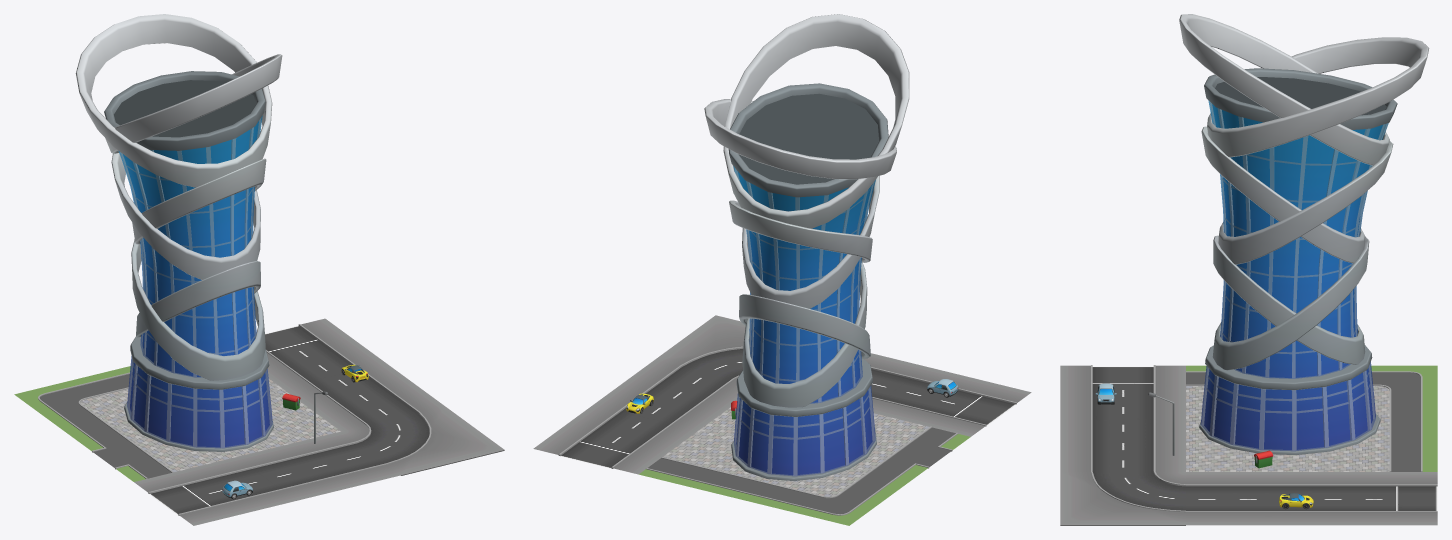
Rendered from north-east.gltf.
3 renders of one model, left to right at view 1: azimuth 30°, elevation 25°; view 2: azimuth 150°, elevation 25°; view 3: azimuth 270°, elevation 25°, orthographic. The views are drawn at different scales.
Parts seen in each view (by area): view 1: Regular_Building_TwistedTower_Large.004, road_013.020, road_009.008, road_009.007, road_022.071, road_022.070, Set_B_Tiles_01.060, Set_B_Tiles_04.054, Set_B_Tiles_09.148; view 2: Regular_Building_TwistedTower_Large.004, road_022.070, road_022.071, road_009.007, Set_B_Tiles_01.060, Set_B_Tiles_05.108, Set_B_Tiles_04.054, road_013.020, road_009.008, Set_B_Tiles_09.148; view 3: Regular_Building_TwistedTower_Large.004, road_022.070, road_013.020, road_009.008, road_022.071, road_009.007, Set_B_Tiles_05.108, Set_B_Tiles_01.060, Set_B_Tiles_09.148, Set_B_Tiles_04.054.
Part boxes in pixels (x1,y1,x2,y2): Regular_Building_TwistedTower_Large.004: (75,14,282,451); road_013.020: (341,406,504,475); road_009.008: (238,431,400,500); road_009.007: (282,362,444,431); road_022.071: (134,457,296,525); road_022.070: (265,318,384,387); Set_B_Tiles_01.060: (14,369,130,437); Set_B_Tiles_04.054: (74,424,237,481); Set_B_Tiles_09.148: (230,387,340,456); Regular_Building_TwistedTower_Large.004: (704,14,909,480); road_022.070: (533,404,698,474); road_022.071: (872,366,1031,436); road_009.007: (594,360,737,429); Set_B_Tiles_01.060: (744,467,909,525); Set_B_Tiles_05.108: (639,430,771,500); Set_B_Tiles_04.054: (853,413,970,481); road_013.020: (655,315,745,379); road_009.008: (864,353,925,405); Set_B_Tiles_09.148: (700,407,735,438); Regular_Building_TwistedTower_Large.004: (1179,14,1429,454); road_022.070: (1312,472,1437,525); road_013.020: (1060,471,1185,525); road_009.008: (1060,418,1185,472); road_022.071: (1060,365,1185,419); road_009.007: (1186,472,1311,525); Set_B_Tiles_05.108: (1312,418,1437,471); Set_B_Tiles_01.060: (1371,365,1437,418); Set_B_Tiles_09.148: (1186,419,1311,471); Set_B_Tiles_04.054: (1186,365,1206,418).
Size of the model in its own units: 45 by 53.27 by 45.
12 materials, 10 textured.
